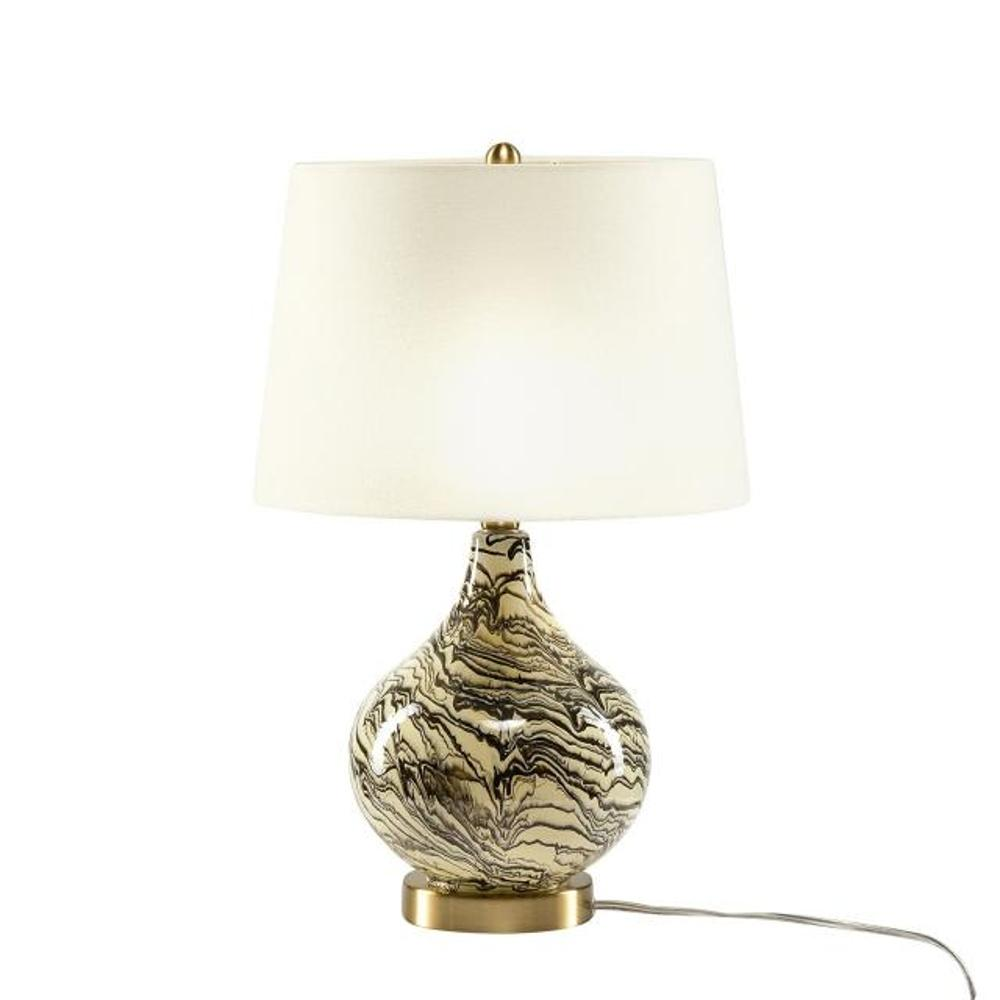shelf: (245, 97, 749, 990)
